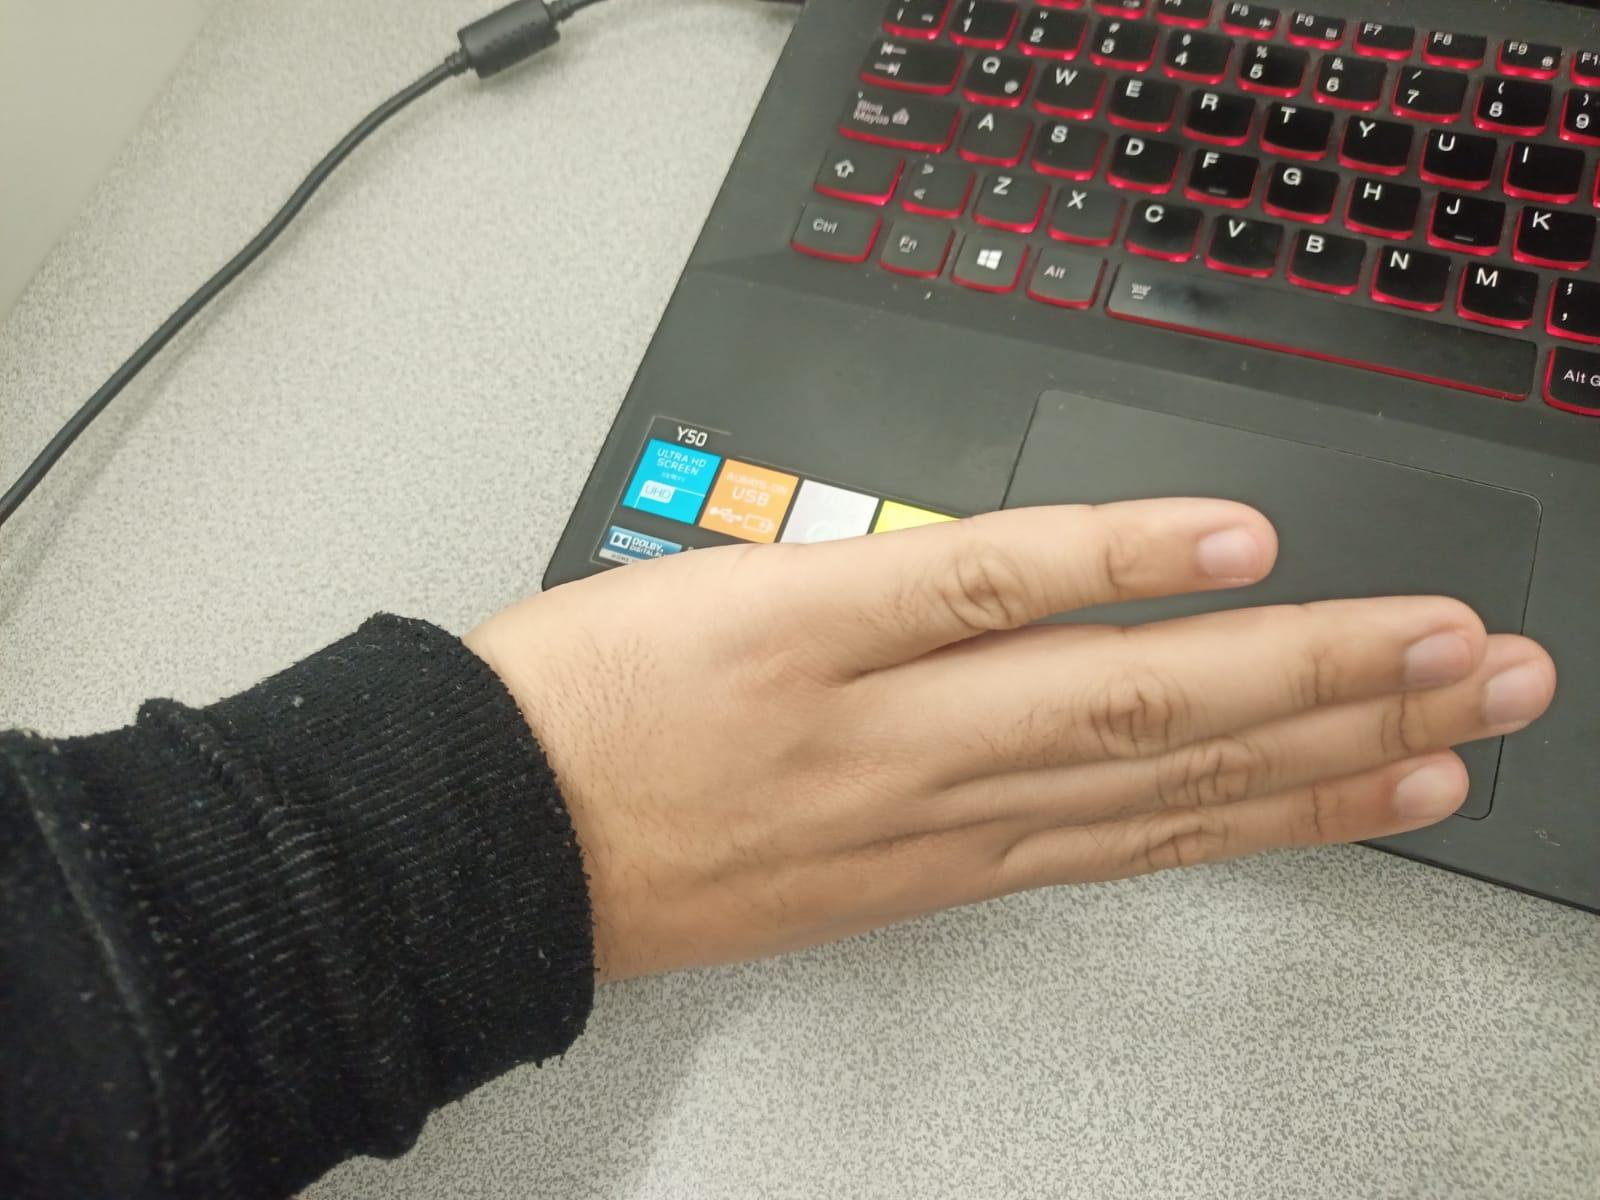Paper: (452, 415, 1589, 988)
